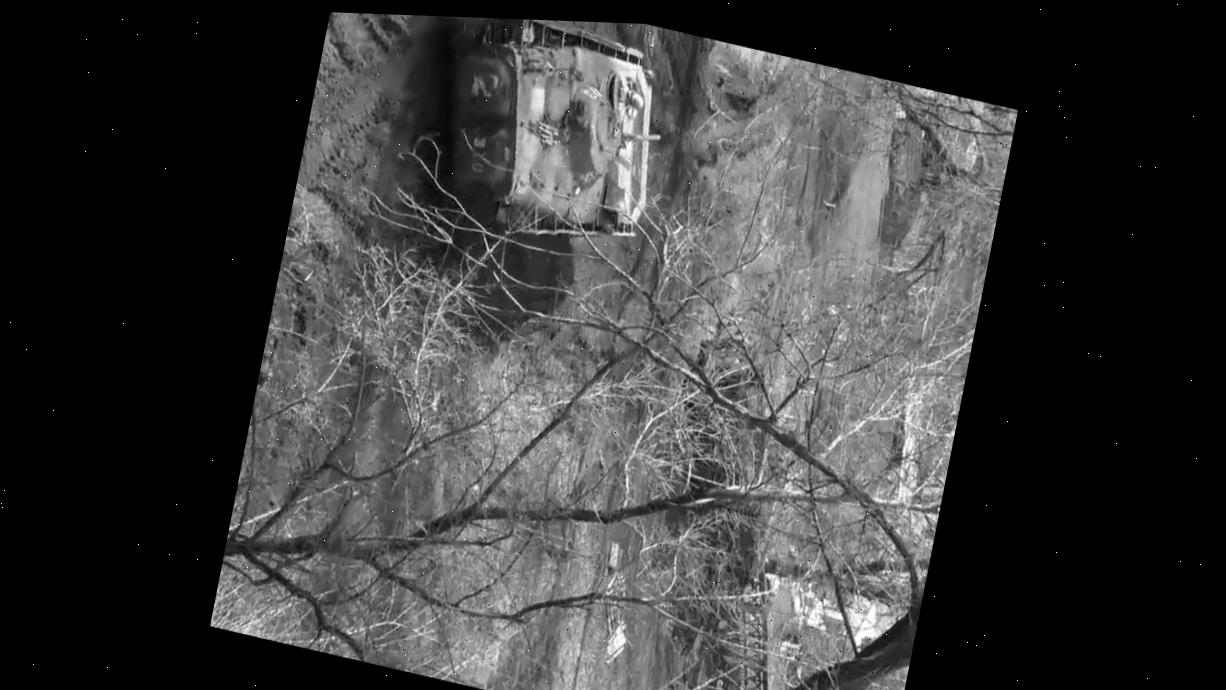tank: (403, 15, 679, 264)
